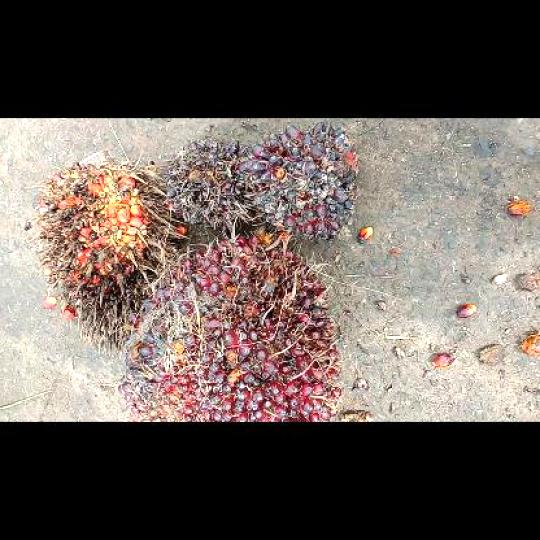masak: (116, 234, 346, 420)
terlalu masak: (25, 146, 177, 358)
